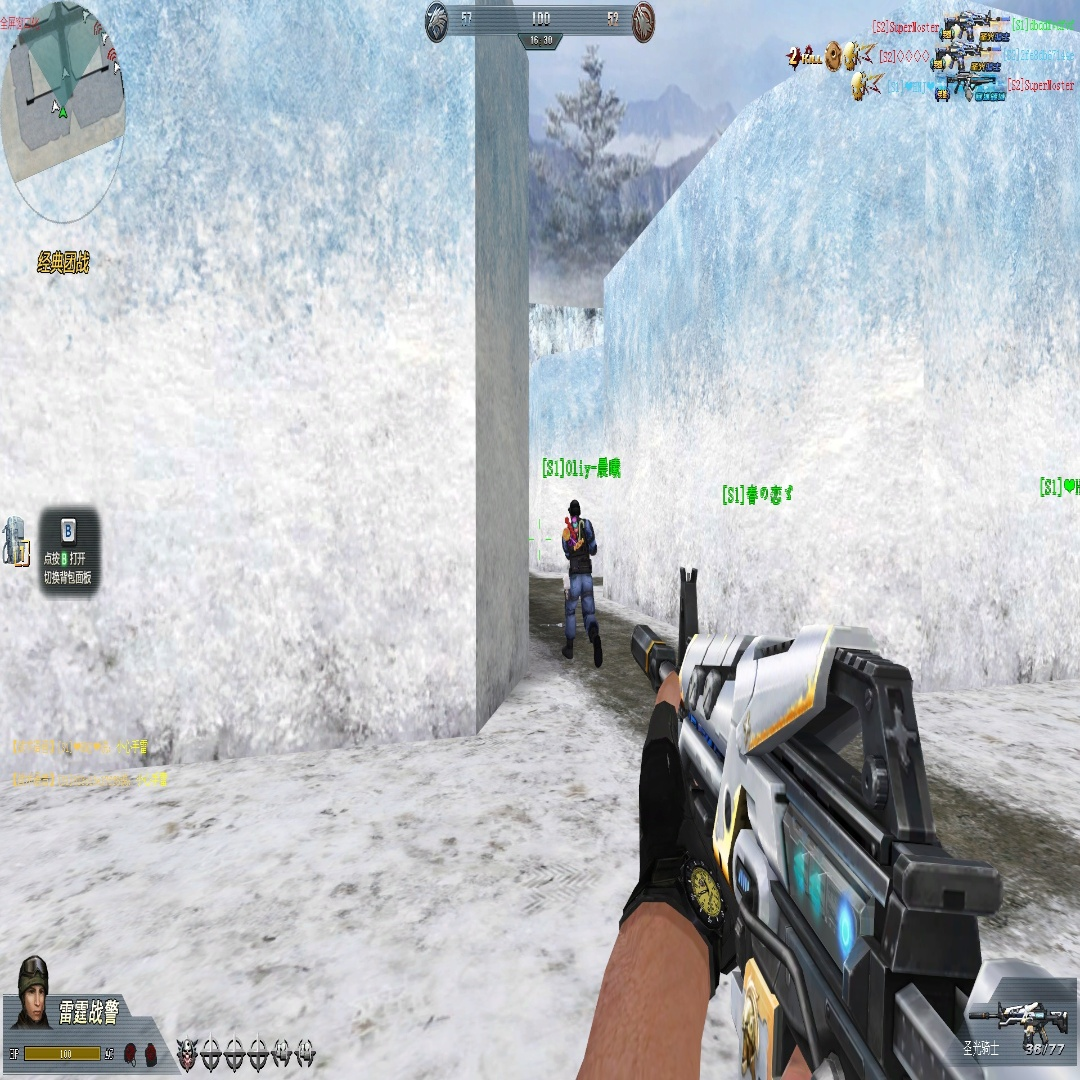ct: (560, 494, 604, 668)
